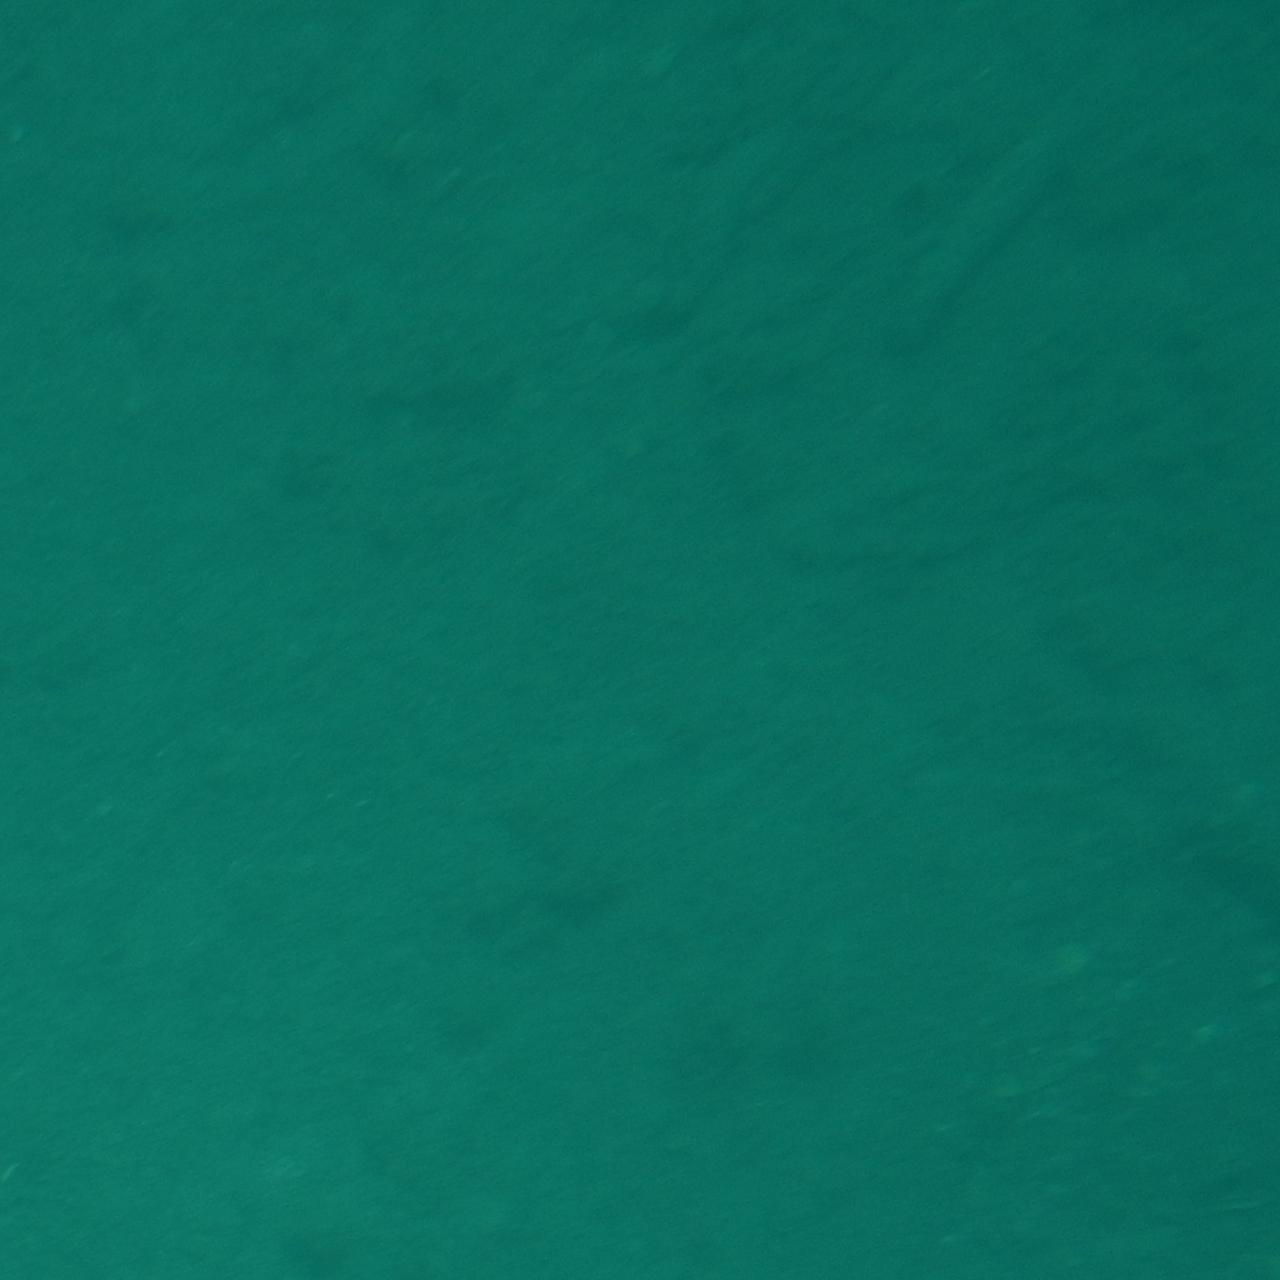Holothuria tubulosa: (885, 21, 1173, 404)
